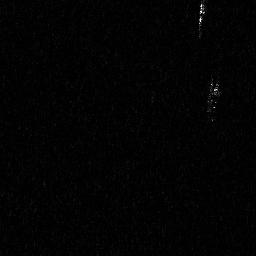ship: (206, 77, 219, 114), (197, 3, 205, 34)
